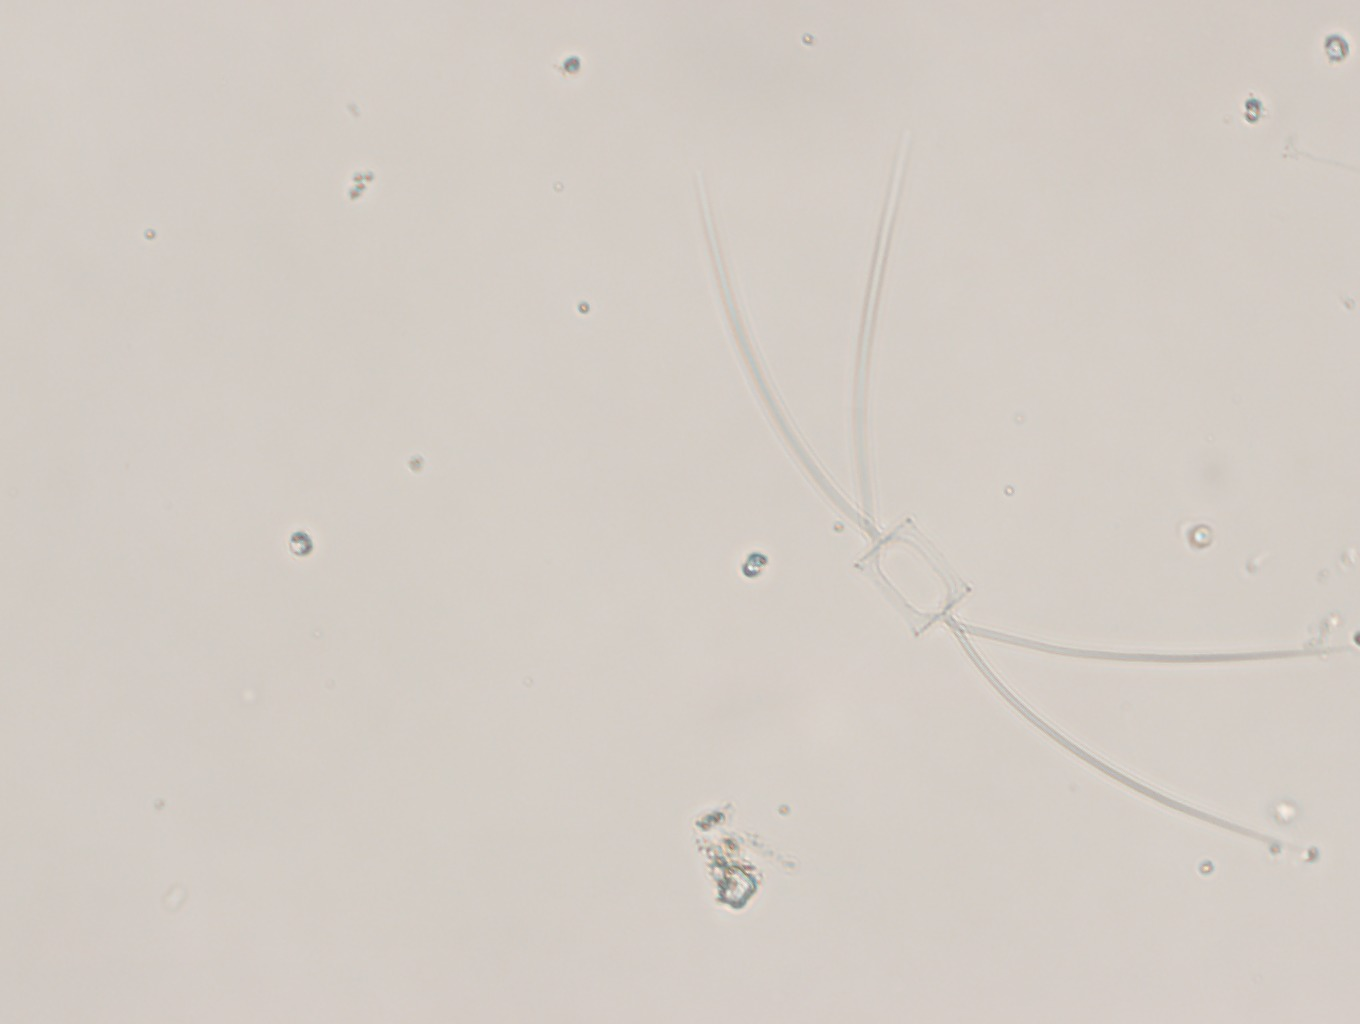chaetoceros: (686, 139, 1336, 857)
